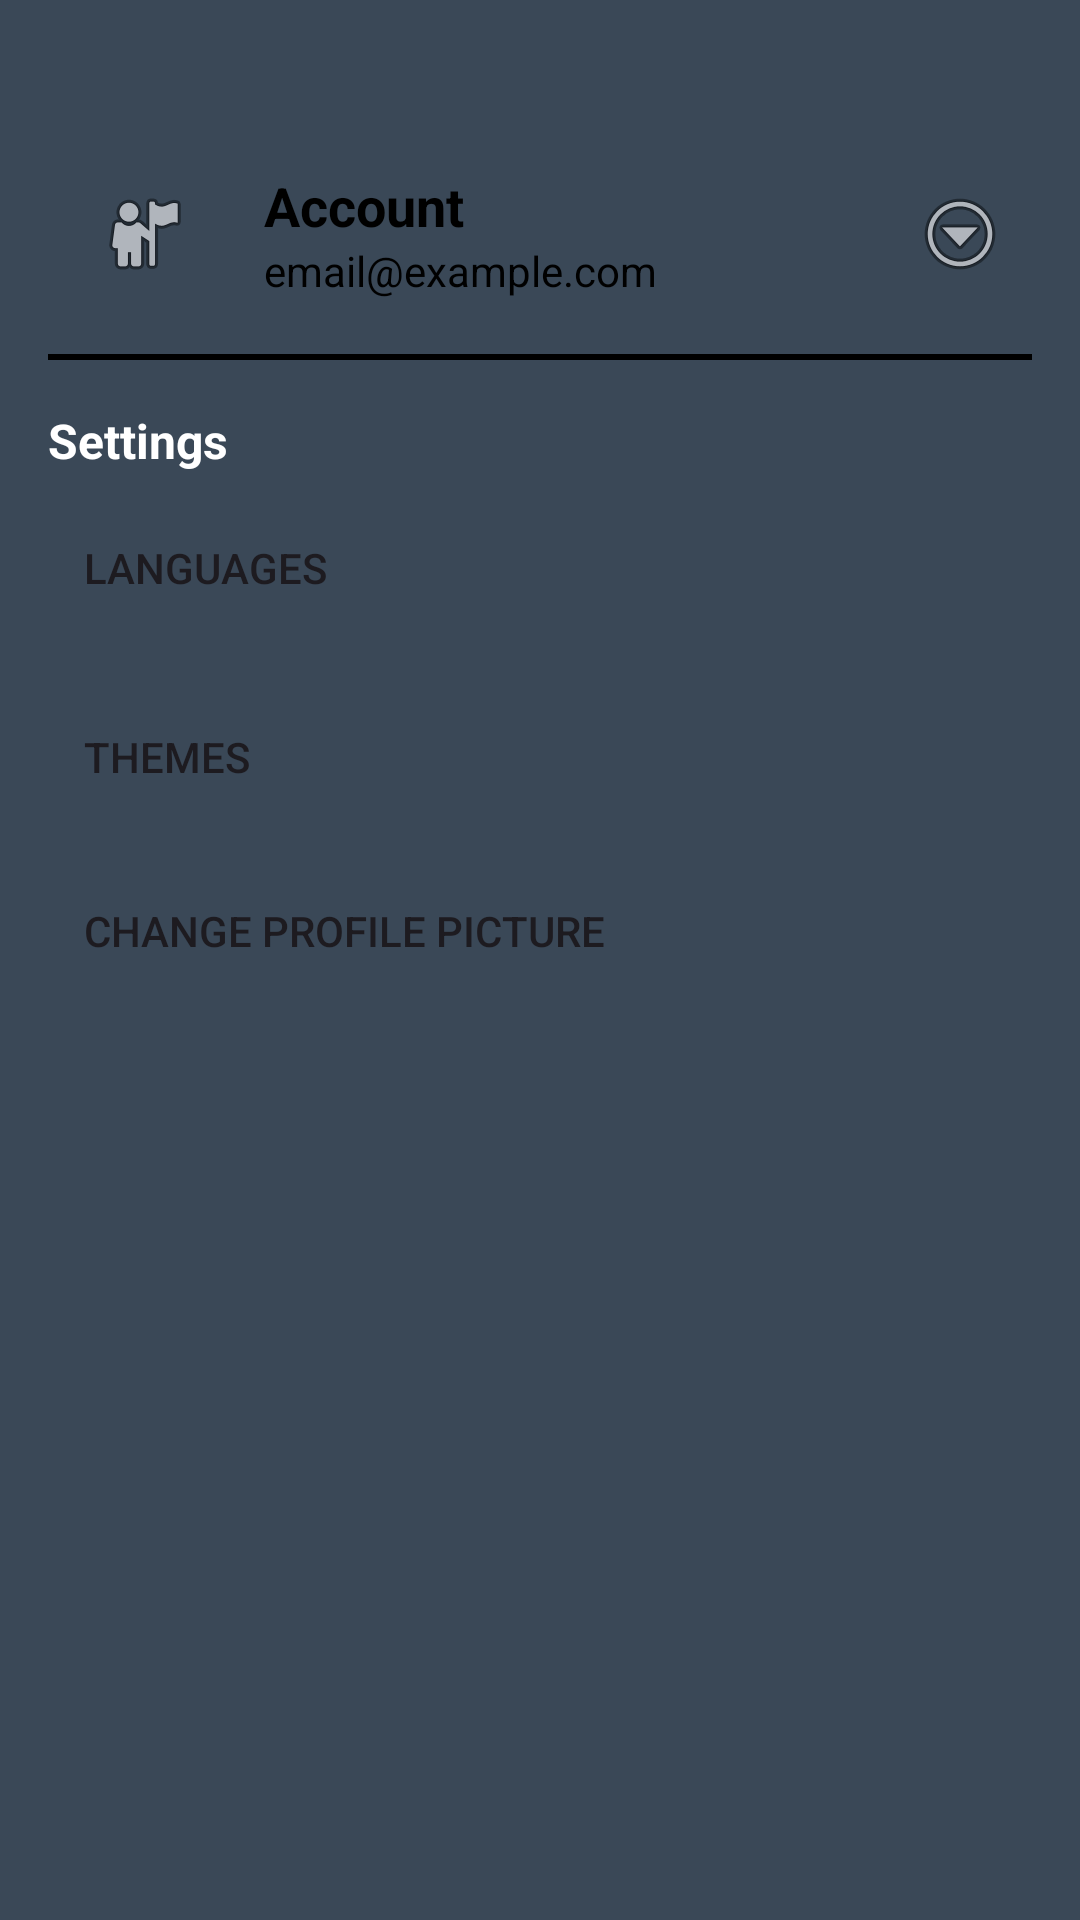

Icons on this 1080px x 1920px Android screen, each with its box as (left=x1, top=y1, right=x2, bottom=y2):
Menu tùy chọn: (left=925, top=199, right=995, bottom=269)
myplaces: (left=109, top=199, right=181, bottom=269)
